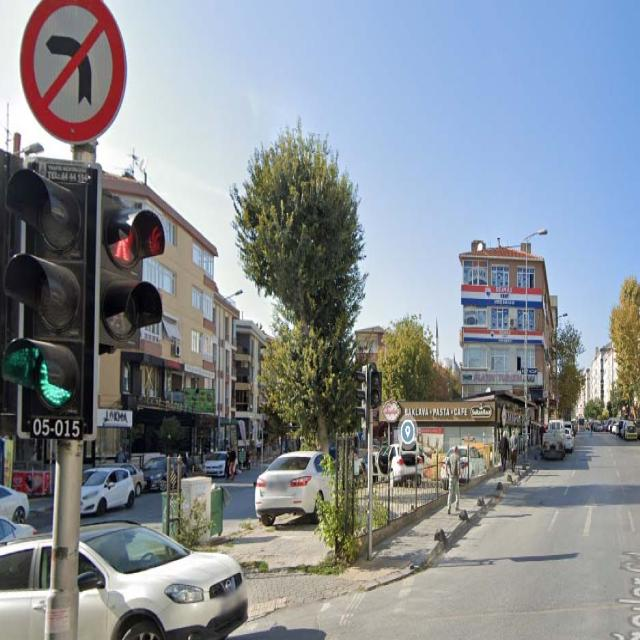soladonulmez: (20, 1, 126, 145)
yesil: (16, 154, 94, 439)
